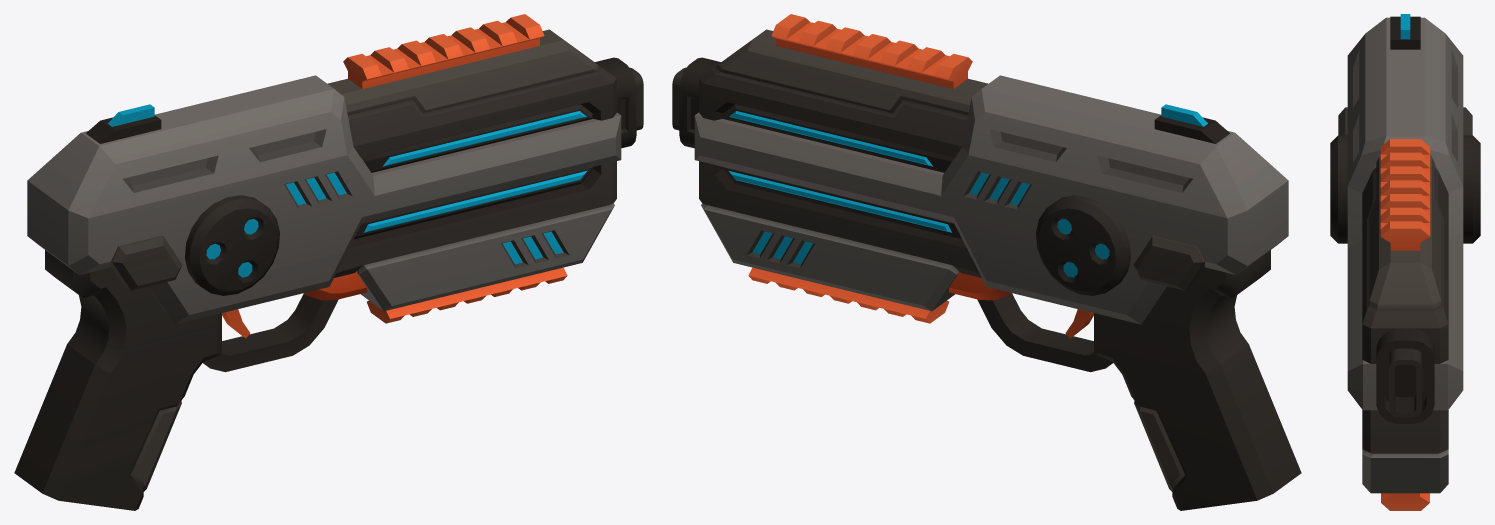
File: Pistol1_Base.fbx
The picture shows the model from 3 angles, left to right: view 1: azimuth 30°, elevation 25°; view 2: azimuth 150°, elevation 25°; view 3: azimuth 270°, elevation 25°; orthographic projection. The views are drawn at different scales.
Parts seen in each view (by area): view 1: Pistol1_Base; view 2: Pistol1_Base; view 3: Pistol1_Base.
Boxes of the visible parts, x1,y1,x2,y2 form: Pistol1_Base: (14, 14, 643, 510); Pistol1_Base: (672, 14, 1301, 510); Pistol1_Base: (1330, 14, 1480, 510).
Bounding box in the file's own units: 38.25 × 23.22 × 7.92.
